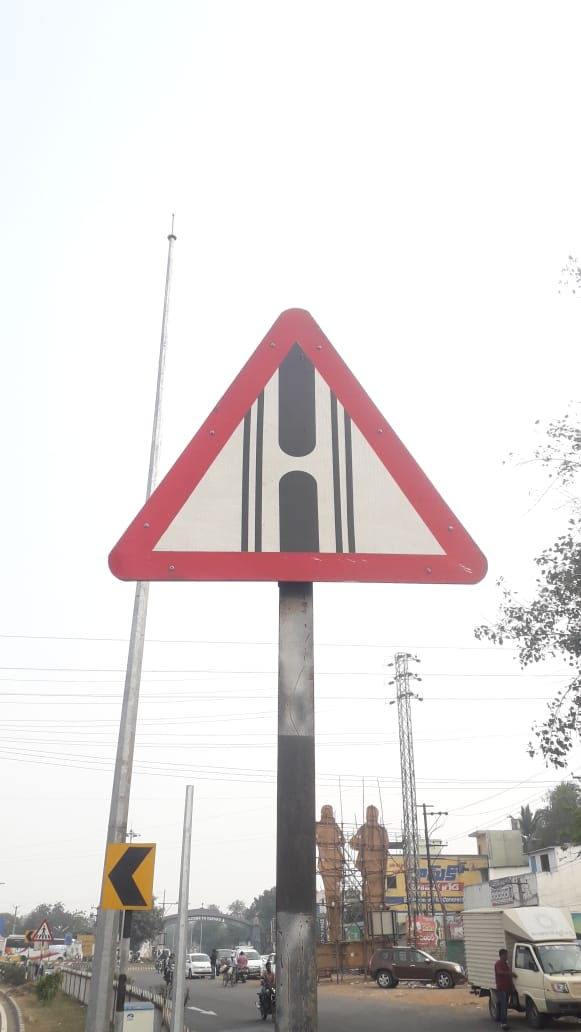highway go straight: (104, 281, 555, 627)
